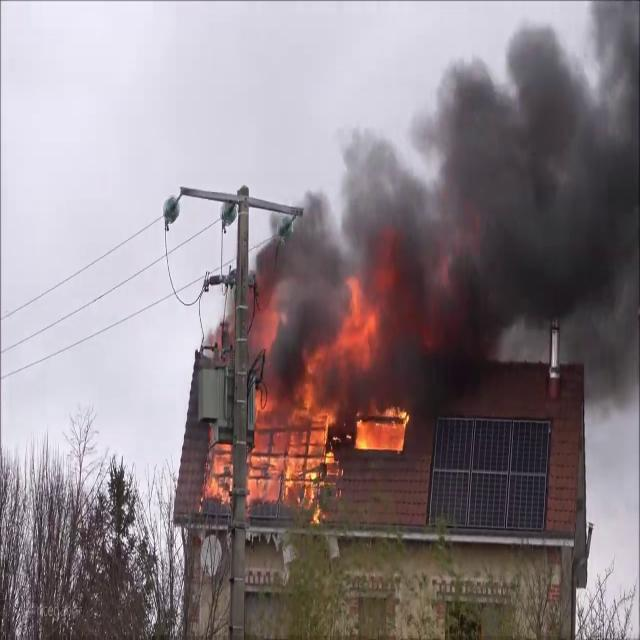Fire: (245, 362, 339, 509), (303, 272, 379, 410), (353, 402, 412, 454)
Smoke: (257, 5, 640, 408)
